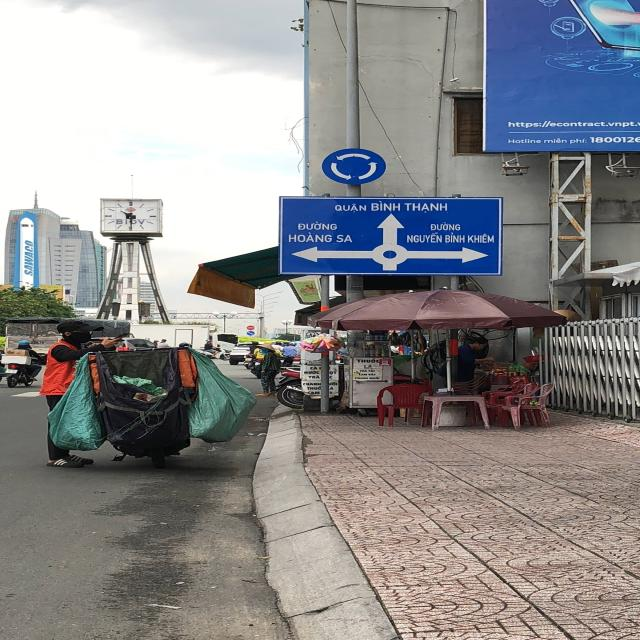Bien bao noi giao nhau chay theo vong xuyen: (318, 145, 387, 186)
